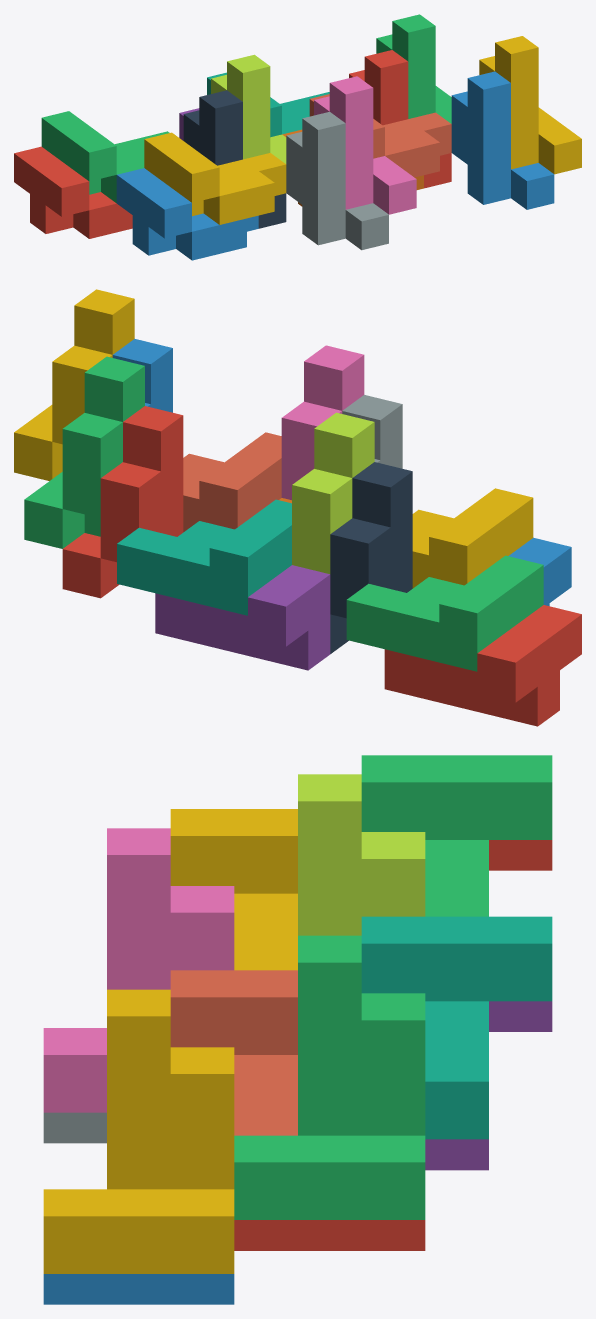
File: tiling.obj
3 renders of one model, top to bottom at view 1: azimuth 30°, elevation 25°; view 2: azimuth 150°, elevation 25°; view 3: azimuth 270°, elevation 25°, orthographic. The views are drawn at different scales.
Visible parts, largest first — view 1: copy_2_domain_6, copy_2_domain_2, copy_1_domain_4, copy_1_domain_2, copy_2_domain_4, copy_2_domain_8, copy_1_domain_1, copy_1_domain_3, copy_2_domain_1, copy_2_domain_7, copy_2_domain_3, copy_1_domain_8 (+2 smaller); view 2: copy_1_domain_3, copy_1_domain_1, copy_1_domain_7, copy_2_domain_5, copy_2_domain_7, copy_1_domain_5, copy_2_domain_1, copy_2_domain_8, copy_1_domain_4, copy_2_domain_3, copy_1_domain_8, copy_2_domain_4 (+3 smaller); view 3: copy_2_domain_7, copy_2_domain_8, copy_1_domain_7, copy_2_domain_4, copy_1_domain_3, copy_2_domain_3, copy_1_domain_8, copy_1_domain_4, copy_2_domain_5, copy_2_domain_6, copy_1_domain_5, copy_2_domain_2 (+1 smaller).
Boxes of the visible parts, bbox=[...] form: copy_2_domain_6: bbox=[451, 71, 554, 209]; copy_2_domain_2: bbox=[286, 111, 388, 250]; copy_1_domain_4: bbox=[144, 132, 286, 224]; copy_1_domain_2: bbox=[116, 168, 258, 260]; copy_2_domain_4: bbox=[314, 76, 416, 214]; copy_2_domain_8: bbox=[479, 36, 581, 174]; copy_1_domain_1: bbox=[14, 146, 132, 238]; copy_1_domain_3: bbox=[41, 111, 169, 202]; copy_2_domain_1: bbox=[183, 90, 286, 228]; copy_2_domain_7: bbox=[376, 14, 451, 123]; copy_2_domain_3: bbox=[211, 54, 286, 163]; copy_1_domain_8: bbox=[309, 94, 451, 177]; copy_1_domain_3: bbox=[346, 555, 543, 671]; copy_1_domain_1: bbox=[384, 605, 581, 726]; copy_1_domain_7: bbox=[117, 499, 291, 615]; copy_2_domain_5: bbox=[62, 406, 183, 598]; copy_2_domain_7: bbox=[24, 356, 144, 548]; copy_1_domain_5: bbox=[155, 565, 330, 670]; copy_2_domain_1: bbox=[330, 462, 412, 653]; copy_2_domain_8: bbox=[14, 289, 134, 480]; copy_1_domain_4: bbox=[412, 488, 533, 588]; copy_2_domain_3: bbox=[292, 412, 374, 573]; copy_1_domain_8: bbox=[183, 432, 281, 532]; copy_2_domain_4: bbox=[281, 345, 364, 500]; copy_2_domain_7: bbox=[234, 935, 425, 1219]; copy_2_domain_8: bbox=[43, 989, 234, 1273]; copy_1_domain_7: bbox=[361, 916, 552, 1139]; copy_2_domain_4: bbox=[43, 828, 234, 1112]; copy_1_domain_3: bbox=[361, 755, 552, 916]; copy_2_domain_3: bbox=[298, 774, 425, 935]; copy_1_domain_8: bbox=[170, 970, 297, 1135]; copy_1_domain_4: bbox=[170, 809, 297, 970]; copy_2_domain_5: bbox=[234, 1220, 425, 1250]; copy_2_domain_6: bbox=[43, 1274, 234, 1304]; copy_1_domain_5: bbox=[425, 1001, 552, 1170]; copy_2_domain_2: bbox=[43, 1112, 106, 1143].
Size of the model in its own units: 16 by 5 by 8.
